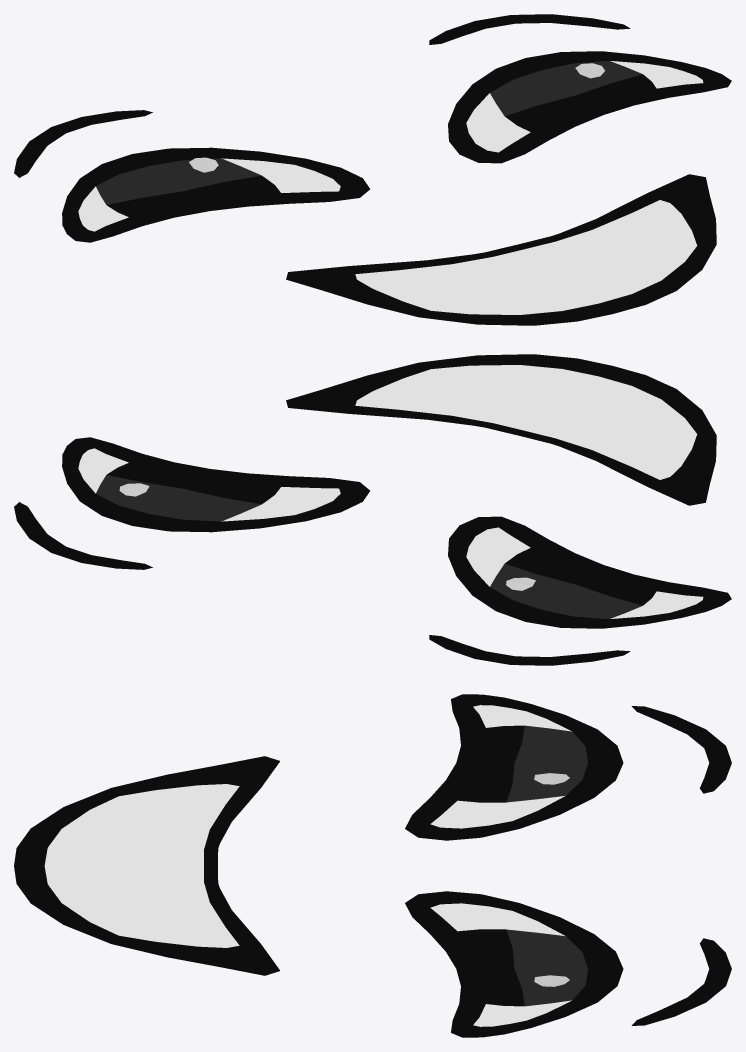
The model's file is lolli-face.glb.
The picture shows the model from 3 angles, top to bottom: view 1: azimuth 30°, elevation 25°; view 2: azimuth 150°, elevation 25°; view 3: azimuth 270°, elevation 25°; orthographic projection. The views are drawn at different scales.
Parts seen in each view (by area): view 1: face; view 2: face; view 3: face.
Boxes of the visible parts, bbox=[...] form: face: bbox=[14, 14, 731, 325]; face: bbox=[14, 354, 731, 665]; face: bbox=[14, 694, 731, 1037].
Bounding box in the file's own units: 2.44 × 0.0184 × 2.15.
Materials: 1 (1 with a texture image).
